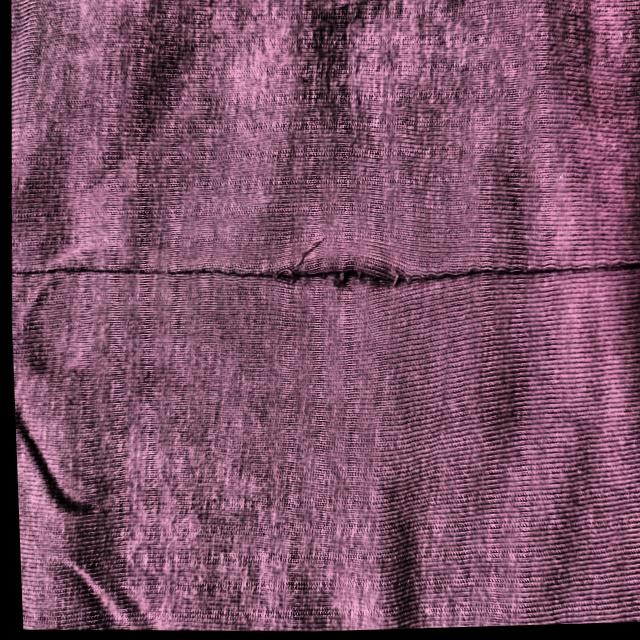Stitch: (276, 254, 409, 299)
